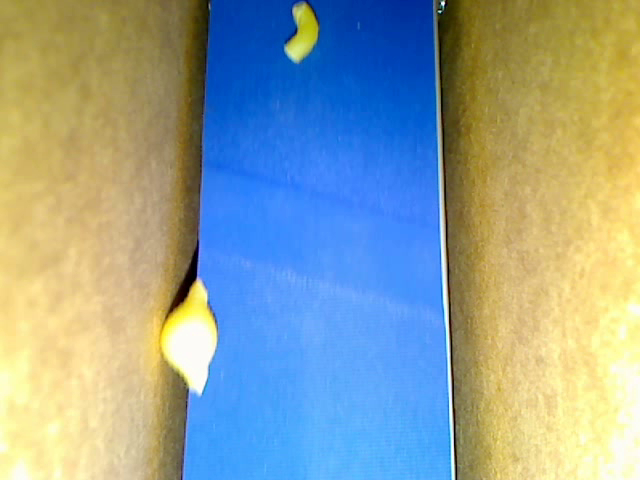elbow: (283, 1, 319, 63)
shell: (159, 276, 216, 395)
